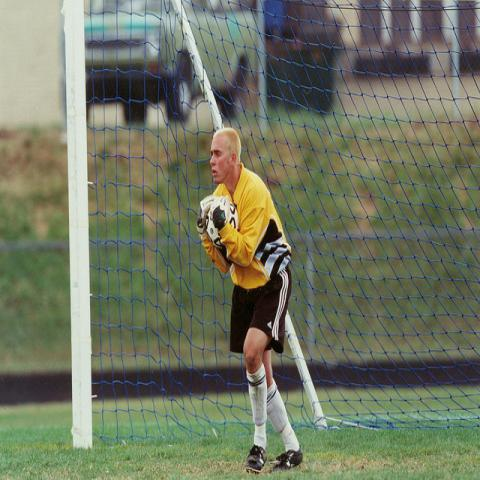truck: (85, 3, 256, 127)
